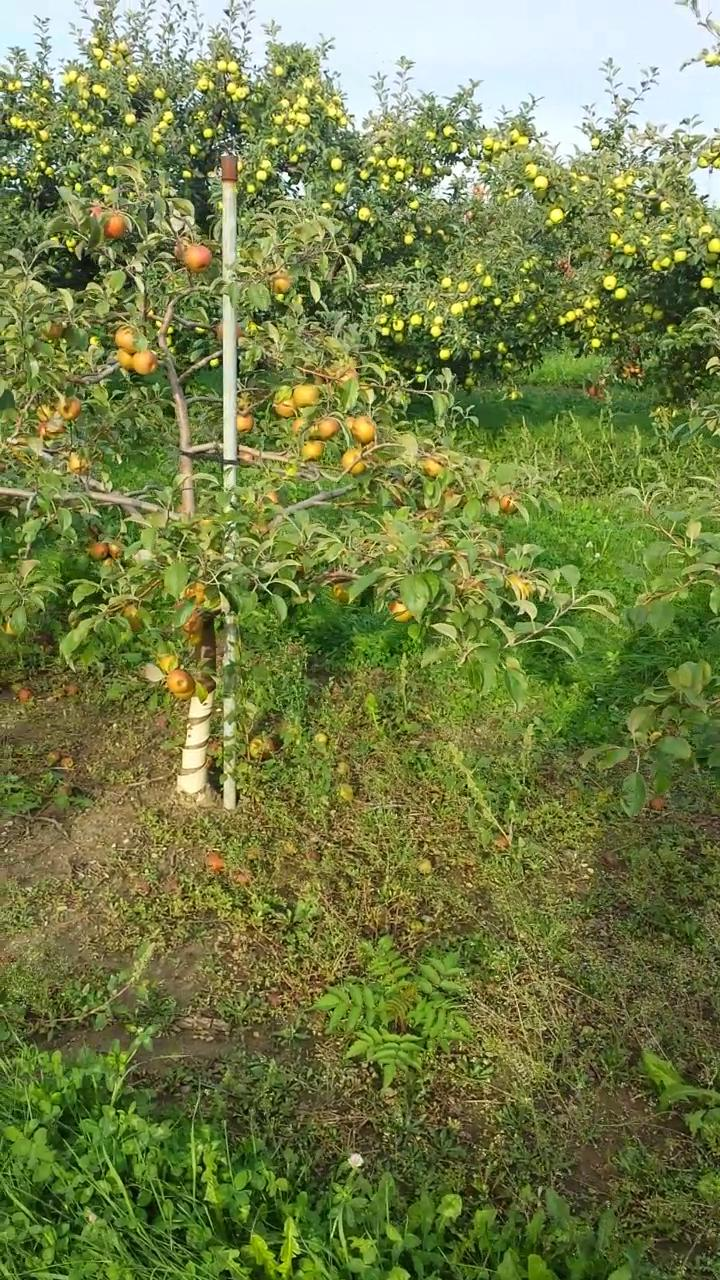Apple: (185, 243, 211, 273), (215, 318, 245, 341), (292, 384, 319, 409), (180, 607, 205, 634), (349, 413, 372, 442), (132, 350, 156, 377), (104, 210, 126, 239), (342, 448, 365, 475), (173, 673, 196, 700), (119, 602, 141, 630), (389, 597, 412, 622), (167, 666, 188, 693), (182, 581, 205, 605), (115, 325, 134, 354), (504, 573, 531, 593), (172, 235, 189, 263), (319, 415, 338, 439), (302, 440, 324, 460), (61, 397, 80, 420), (275, 397, 295, 418), (292, 415, 312, 436), (423, 458, 442, 480), (68, 452, 86, 475), (34, 403, 55, 421), (158, 652, 174, 675), (499, 494, 518, 513), (337, 367, 357, 385), (329, 582, 349, 600), (236, 411, 253, 432), (90, 541, 108, 560), (117, 350, 132, 372), (261, 490, 281, 506), (273, 274, 291, 291), (190, 624, 203, 645), (236, 449, 255, 463), (108, 542, 123, 559), (47, 324, 64, 337), (343, 415, 355, 431), (35, 421, 46, 438), (90, 206, 104, 216)
